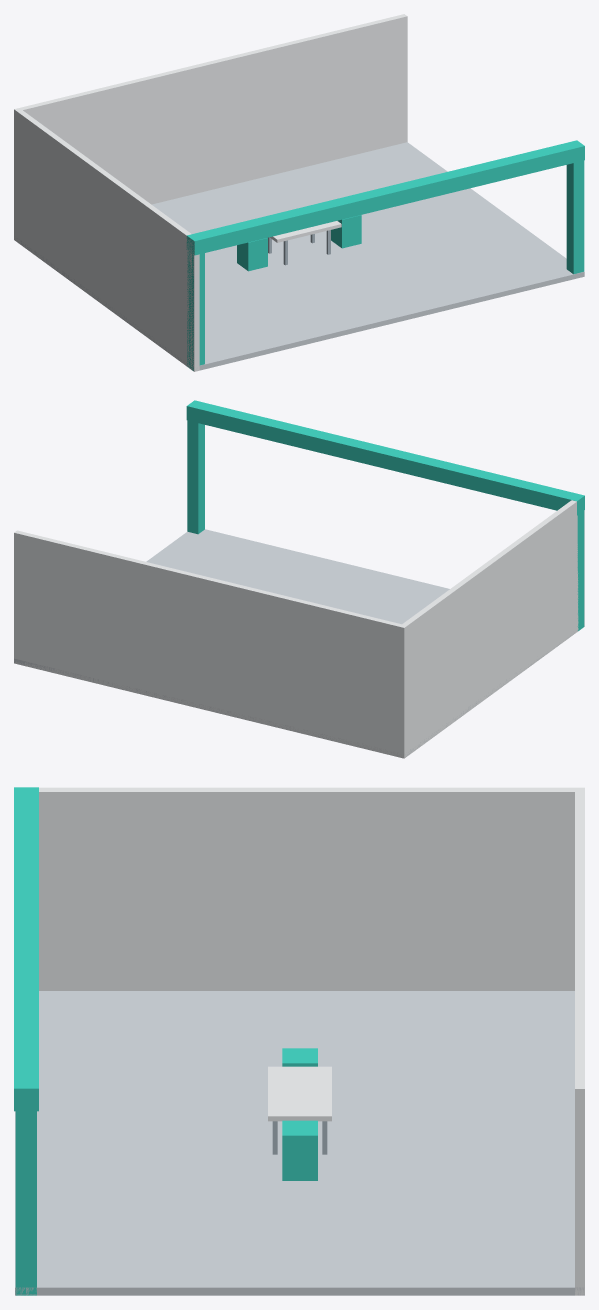
3 renders of one model, top to bottom at view 1: azimuth 30°, elevation 25°; view 2: azimuth 150°, elevation 25°; view 3: azimuth 270°, elevation 25°, orthographic. The views are drawn at different scales.
Parts seen in each view (by area): view 1: Exhibition Booth Concept; view 2: Exhibition Booth Concept; view 3: Exhibition Booth Concept.
Part boxes in pixels (x1,y1,x2,y2): Exhibition Booth Concept: [14, 14, 584, 371]; Exhibition Booth Concept: [14, 400, 584, 758]; Exhibition Booth Concept: [14, 787, 584, 1295].
Size of the model in its own units: 10 by 3.2 by 8.01.
